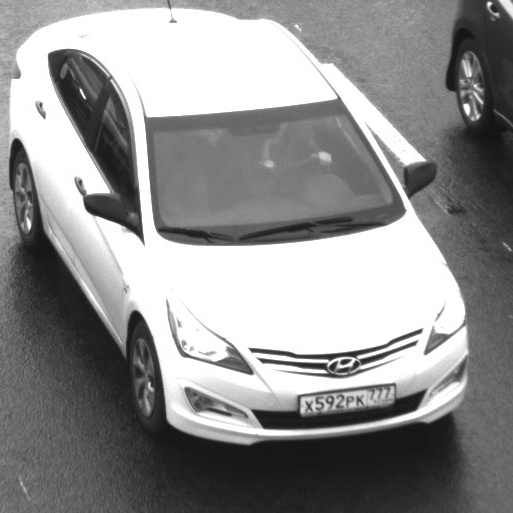plate: (287, 373, 403, 423)
